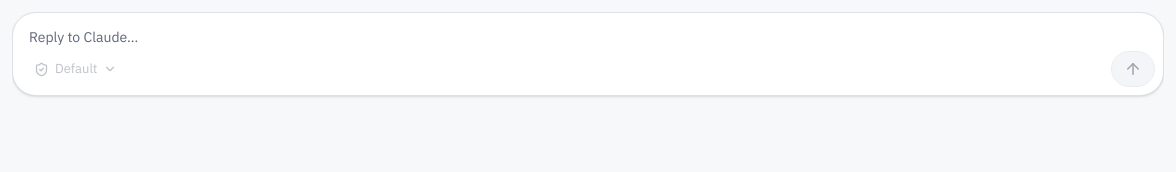
it: T042 live-elsewhere switches to remote mode and keeps the text
Step 1. Type "Fixture reply" into the text box named "Reply to session" → x=588, y=32, box [13,13,1163,51]
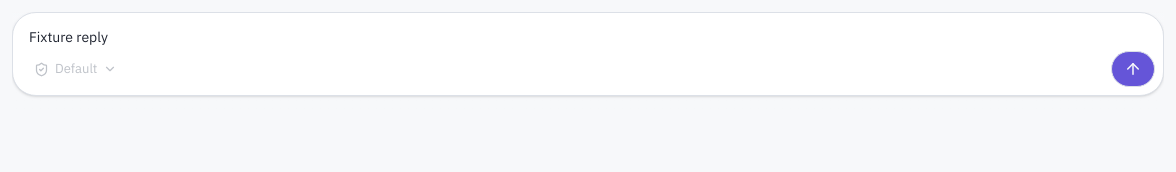
Step 2. Click the button named "Send" → x=1133, y=69, box [1111,51,1155,87]
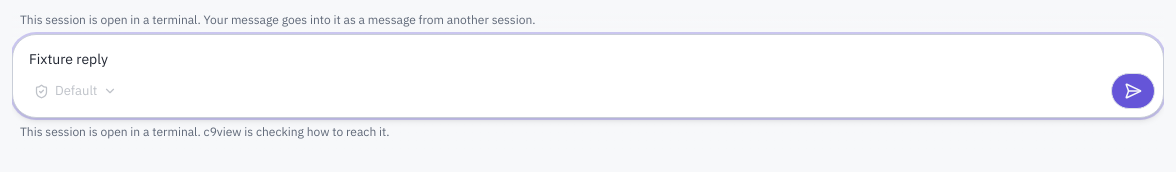
expect the button named "Send to the terminal session" is shown: met, box [1111,73,1155,109]
